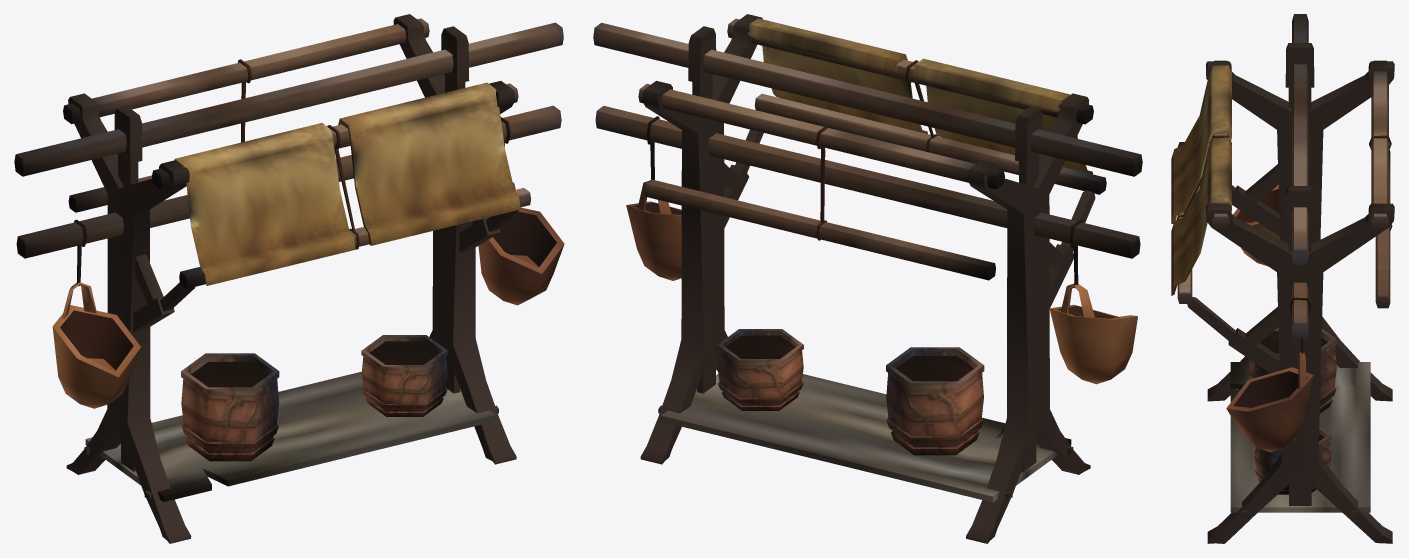
The model's file is TanningRack.glb.
3 views of the same model, side by side, from view 1: azimuth 30°, elevation 25°; view 2: azimuth 150°, elevation 25°; view 3: azimuth 270°, elevation 25° (orthographic). The views are drawn at different scales.
Parts seen in each view (by area): view 1: Tanning Rack; view 2: Tanning Rack; view 3: Tanning Rack.
Part boxes in pixels (x1,y1,x2,y2): Tanning Rack: (14,14,564,543); Tanning Rack: (593,14,1142,543); Tanning Rack: (1171,14,1394,543).
Size of the model in its own units: 3.37 by 2.34 by 1.35.
1 material, 1 textured.
